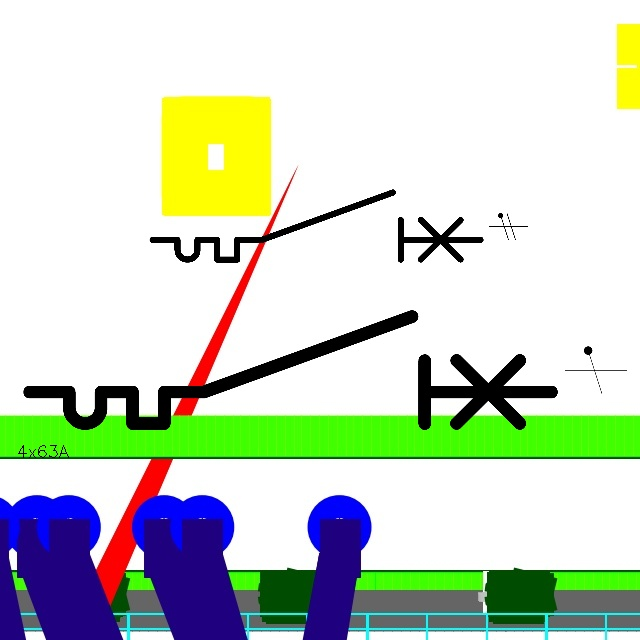interruptor_termomagnetico: (16, 303, 565, 437), (144, 184, 488, 268)
